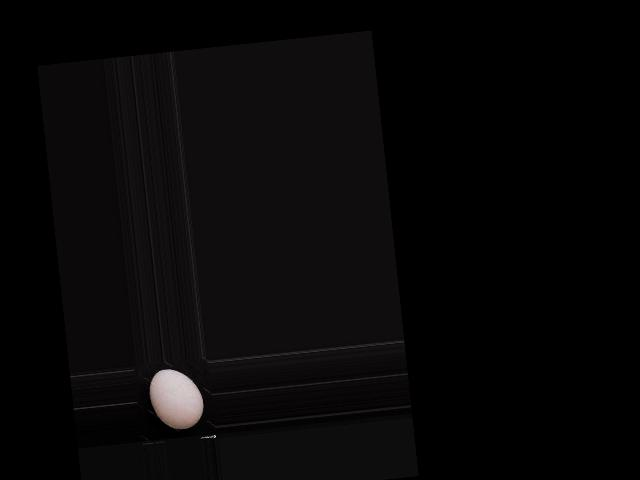egg: (146, 366, 205, 432)
